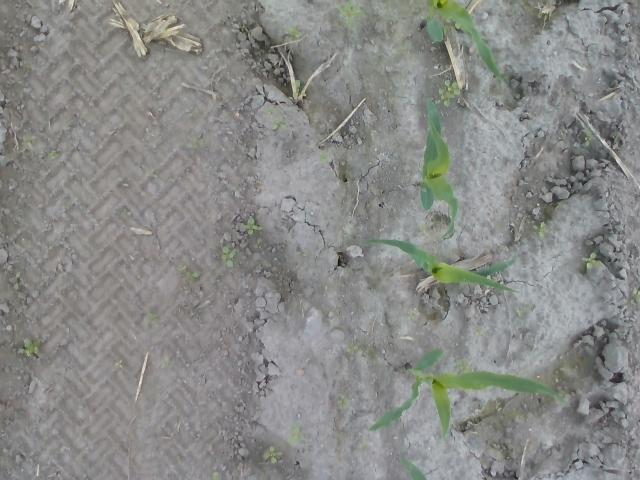Maize: (367, 346, 569, 448), (366, 237, 524, 296), (424, 0, 518, 92), (414, 90, 459, 240)
Weeds: (336, 0, 368, 24), (439, 76, 461, 106), (18, 337, 40, 357), (220, 246, 236, 268), (178, 264, 200, 280), (530, 222, 548, 240), (243, 214, 259, 234), (262, 444, 278, 464), (287, 426, 300, 448), (582, 250, 596, 270), (22, 134, 38, 148), (272, 118, 288, 131), (630, 287, 640, 306), (288, 26, 302, 39), (458, 360, 472, 373), (14, 270, 22, 290), (584, 130, 594, 146), (336, 396, 348, 408), (113, 358, 125, 370), (48, 150, 61, 160), (346, 344, 358, 354), (320, 150, 330, 162), (296, 78, 302, 96), (149, 314, 158, 321)
